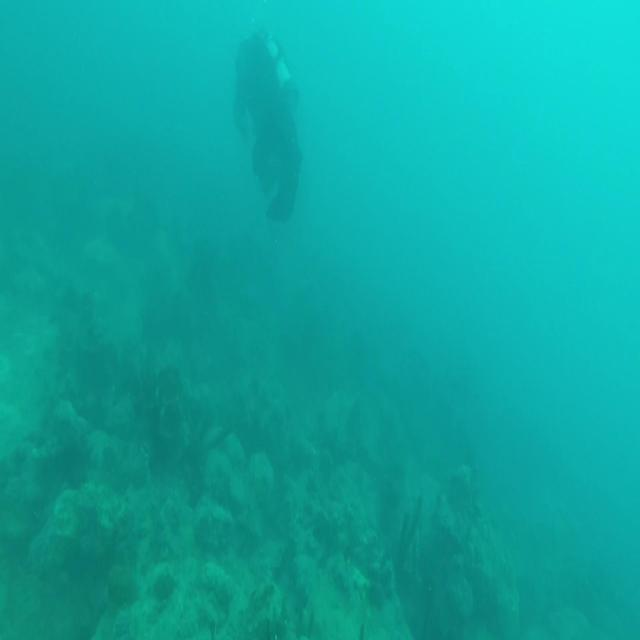human: (232, 26, 303, 223)
